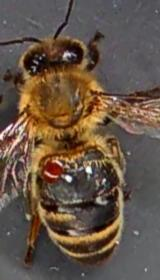varroa_mite: (34, 156, 68, 188)
